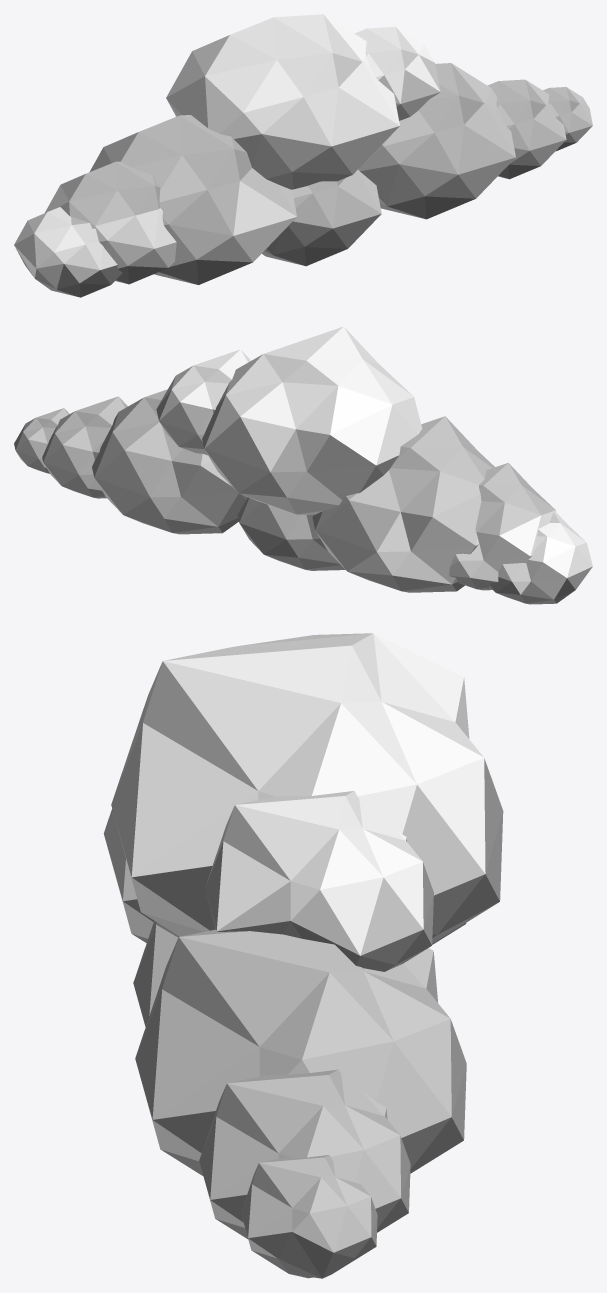
File: Cloud2.fbx
3 renders of one model, top to bottom at view 1: azimuth 30°, elevation 25°; view 2: azimuth 150°, elevation 25°; view 3: azimuth 270°, elevation 25°, orthographic. The views are drawn at different scales.
Visible parts, largest first — view 1: Icosphere.006; view 2: Icosphere.006; view 3: Icosphere.006.
Part boxes in pixels (left/top/right/bottom): Icosphere.006: left=14, top=14, right=592, bottom=297; Icosphere.006: left=14, top=326, right=592, bottom=604; Icosphere.006: left=103, top=633, right=503, bottom=1278.
Bounding box in the file's own units: 1.36 × 0.5341 × 0.4231.
